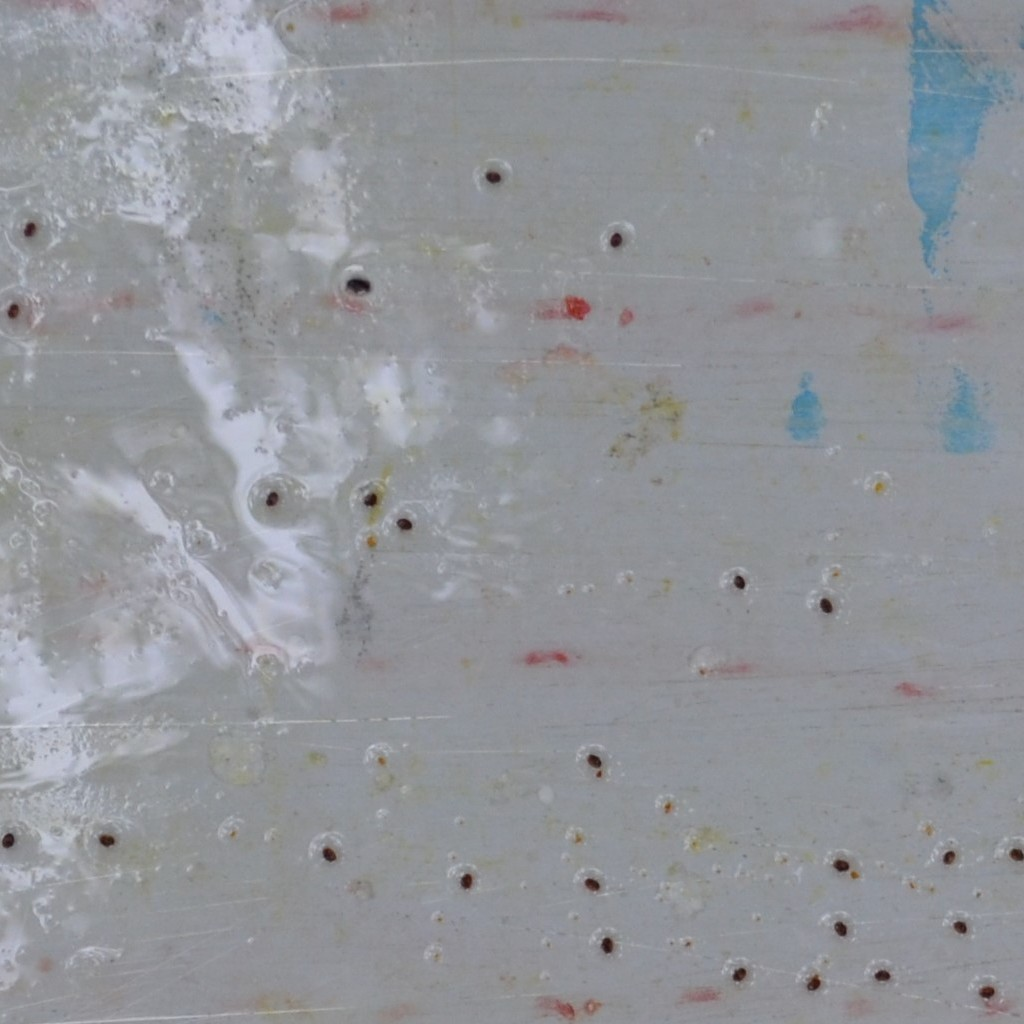varroa: (345, 275, 373, 297), (481, 164, 504, 188), (262, 487, 283, 510), (830, 855, 852, 876), (583, 748, 603, 769), (96, 829, 117, 849), (318, 844, 337, 866), (598, 935, 616, 958), (729, 571, 749, 591), (802, 976, 823, 995), (582, 875, 601, 896), (871, 968, 894, 985), (609, 229, 625, 253), (951, 918, 970, 938), (977, 981, 997, 1000), (361, 490, 380, 509), (940, 848, 958, 868), (833, 917, 850, 938), (818, 595, 835, 615), (458, 871, 475, 891), (731, 965, 750, 982), (4, 302, 21, 321), (22, 220, 38, 240), (394, 516, 415, 531), (0, 830, 15, 851), (1007, 846, 1023, 864)
